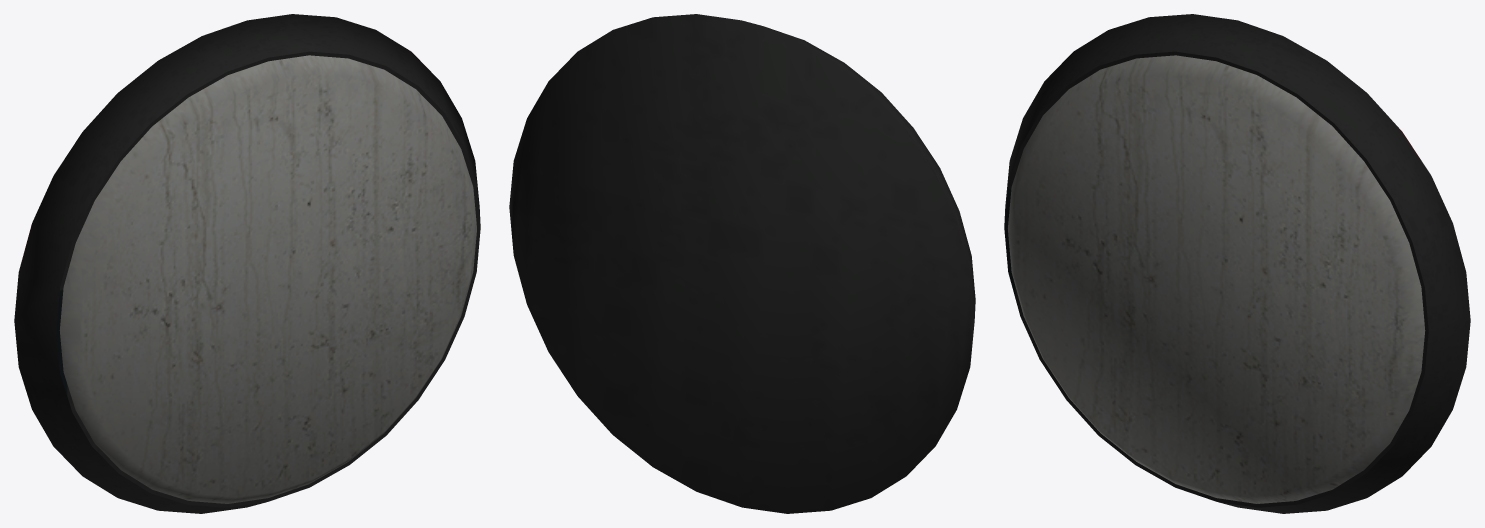
The model's file is p_dest_clock_glo01_base_LOD0.obj.
3 renders of one model, left to right at view 1: azimuth 30°, elevation 25°; view 2: azimuth 150°, elevation 25°; view 3: azimuth 330°, elevation 25°, orthographic.
Parts seen in each view (by area): view 1: global_glass, mtl_p_glo_clock_lrg; view 2: mtl_p_glo_clock_lrg; view 3: global_glass, mtl_p_glo_clock_lrg.
Part boxes in pixels (bbox=[...]): global_glass: bbox=[59, 55, 476, 503]; mtl_p_glo_clock_lrg: bbox=[14, 14, 480, 513]; mtl_p_glo_clock_lrg: bbox=[509, 14, 975, 513]; global_glass: bbox=[1008, 55, 1425, 503]; mtl_p_glo_clock_lrg: bbox=[1004, 14, 1470, 513].
Size of the model in its own units: 63.6 by 63.6 by 6.96.
